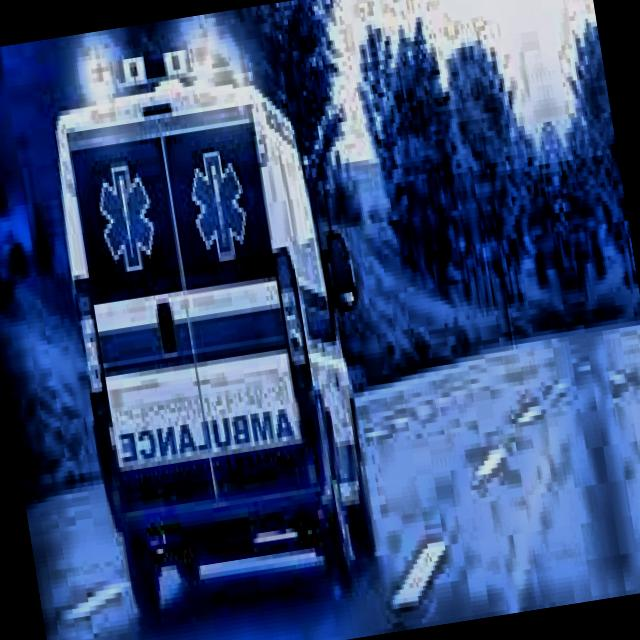Ambulance: (39, 30, 400, 620)
